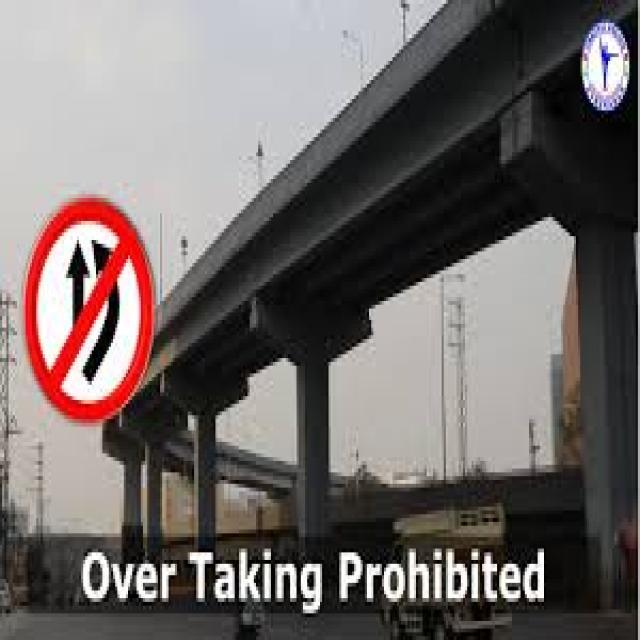overtaking prohibited: (25, 195, 154, 425)
